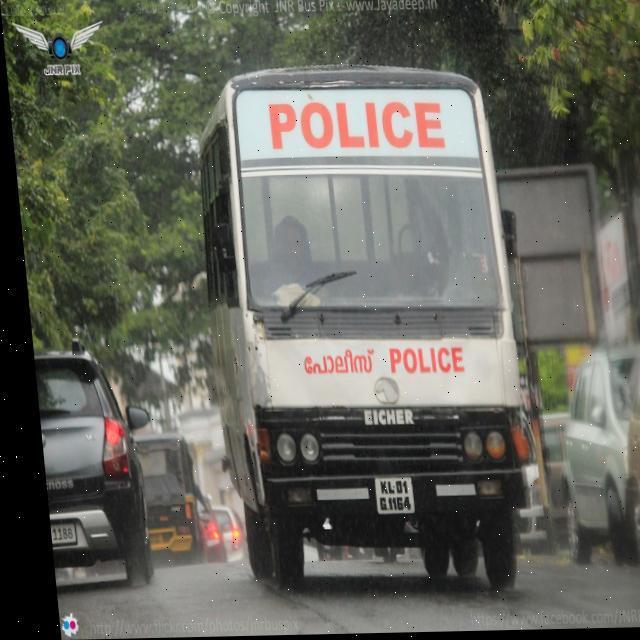Ambulance: (9, 50, 640, 625), (180, 61, 540, 602), (41, 514, 640, 638), (26, 336, 156, 594), (539, 342, 640, 572), (120, 429, 216, 568), (600, 336, 640, 576), (253, 214, 320, 314)
